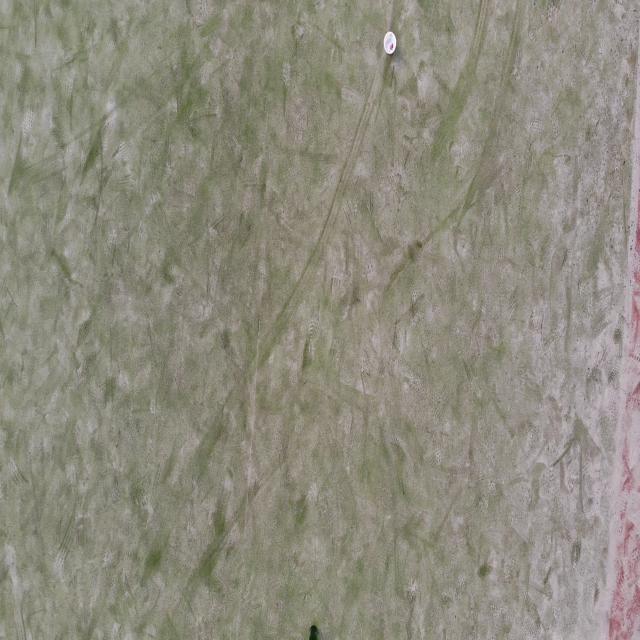rubbish: (383, 31, 396, 52), (308, 623, 319, 639)
